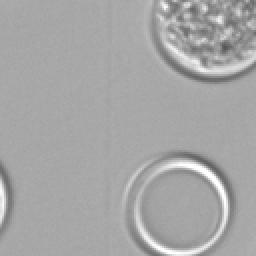picoshell: (126, 152, 230, 254), (150, 0, 254, 80), (0, 164, 10, 232)
